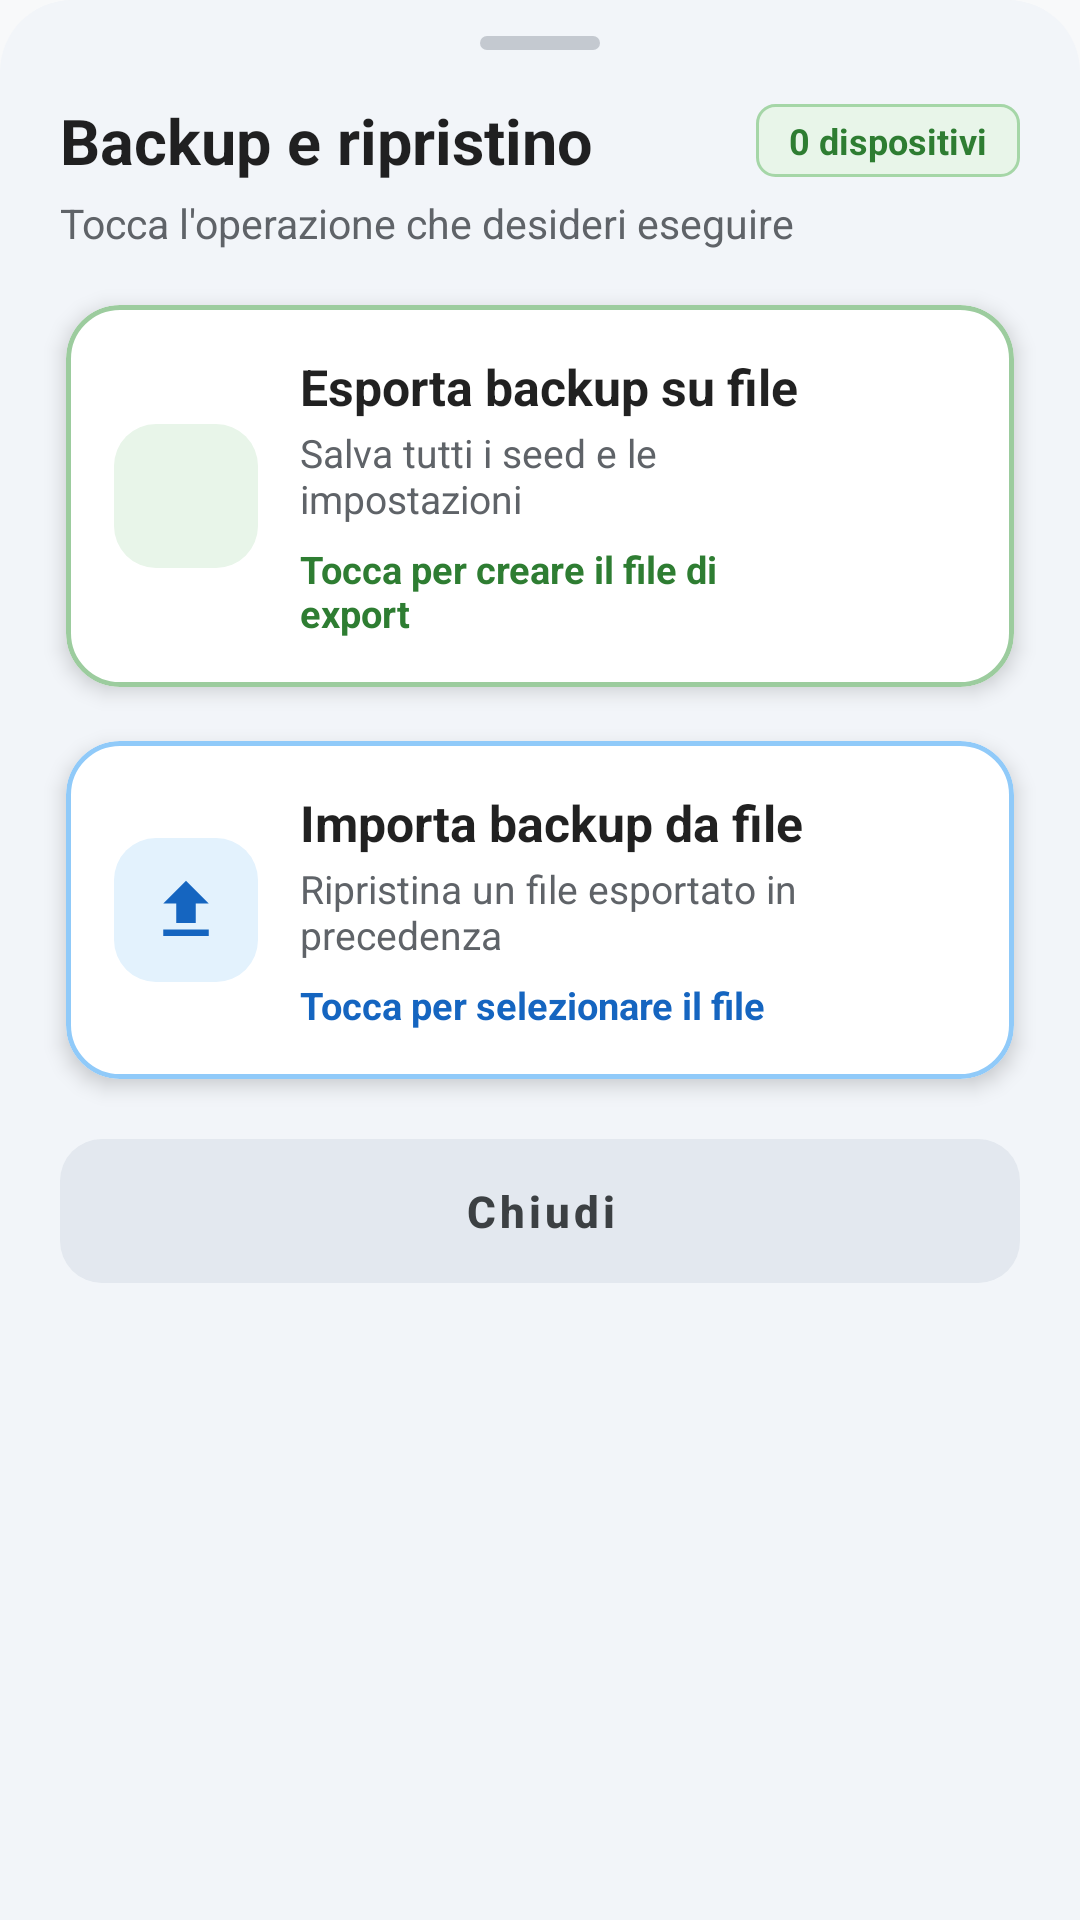

Where icons sit on this 1080*1920 app screen, as detection(x1, y1, x2, y2):
upload: detection(114, 838, 258, 982)
